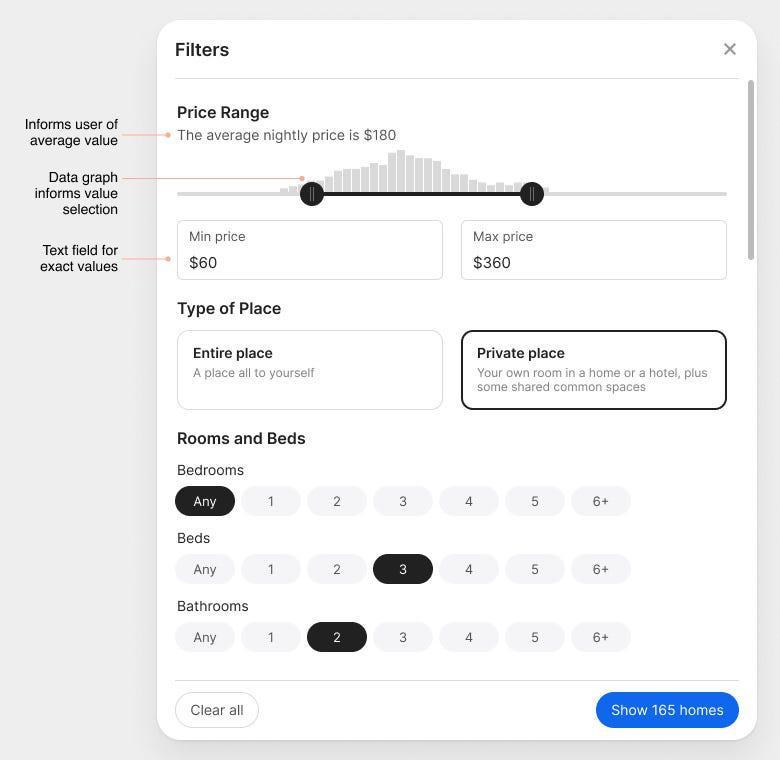button: (596, 692, 741, 730), (176, 694, 260, 728), (174, 485, 237, 518), (373, 554, 436, 586), (306, 623, 368, 654)
input: (179, 220, 443, 278), (462, 222, 726, 279)
slider: (174, 182, 735, 211)
